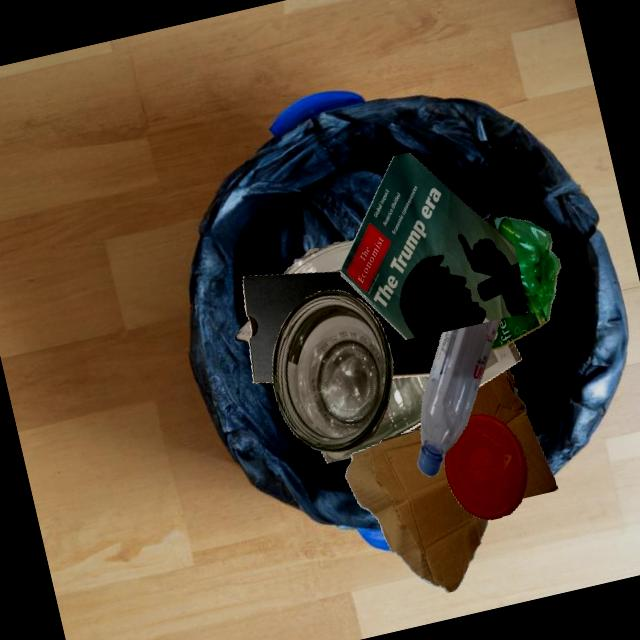cardboard: (345, 428, 488, 592), (242, 271, 442, 382), (469, 367, 557, 498), (409, 423, 420, 431)
glass: (272, 290, 393, 452), (320, 375, 429, 463), (282, 240, 353, 274)
paper: (339, 152, 527, 339), (478, 341, 521, 387), (291, 247, 319, 265), (235, 319, 251, 344), (405, 430, 410, 432)
plastic: (417, 318, 500, 476), (483, 214, 561, 350), (444, 413, 527, 519)
